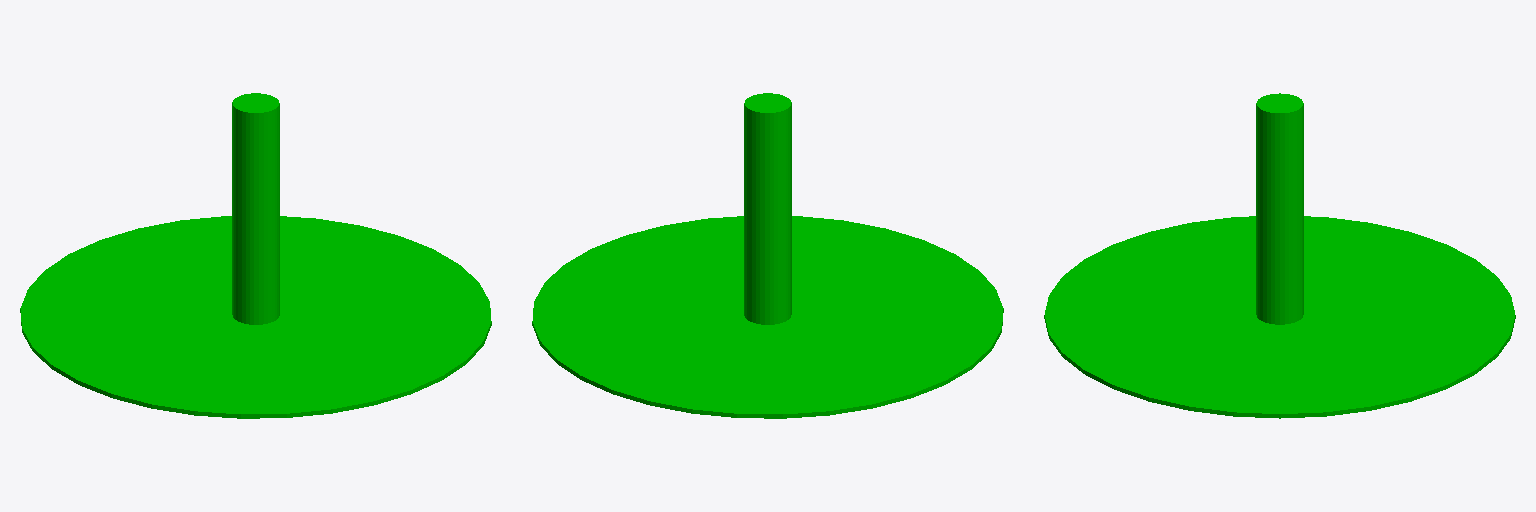
The robot description file, URDF, robot "sr_arm_muscle":
<?xml version="1.0" ?>
<!-- =================================================================================== -->
<!-- |    This document was autogenerated by xacro from xacro/sr_arm_muscle.urdf.xacro | -->
<!-- |    EDITING THIS FILE BY HAND IS NOT RECOMMENDED                                 | -->
<!-- =================================================================================== -->
<robot name="sr_arm_muscle" xmlns:body="http://playerstage.sourceforge.net/gazebo/xmlschema/#body" xmlns:controller="http://playerstage.sourceforge.net/gazebo/xmlschema/#controller" xmlns:geom="http://playerstage.sourceforge.net/gazebo/xmlschema/#geom" xmlns:interface="http://playerstage.sourceforge.net/gazebo/xmlschema/#interface" xmlns:joint="http://playerstage.sourceforge.net/gazebo/xmlschema/#slider" xmlns:sensor="http://playerstage.sourceforge.net/gazebo/xmlschema/#sensor" xmlns:xacro="http://ros.org/wiki/xacro">
  <material name="Blue">
    <color rgba="0.0 0.0 0.8 1.0"/>
  </material>
  <material name="Green">
    <color rgba="0.0 0.8 0.0 1.0"/>
  </material>
  <material name="Grey">
    <color rgba="0.2 0.2 0.2 1.0"/>
  </material>
  <material name="LightGrey">
    <color rgba="0.6 0.6 0.6 1.0"/>
  </material>
  <material name="Red">
    <color rgba="0.8 0.0 0.0 1.0"/>
  </material>
  <material name="White">
    <color rgba="1.0 1.0 1.0 1.0"/>
  </material>
  <gazebo>
    <controller:gazebo_ros_controller_manager name="gazebo_ros_controller_manager" plugin="libgazebo_ros_controller_manager.so">
      <alwaysOn>true</alwaysOn>
      <updateRate>1000.0</updateRate>
    </controller:gazebo_ros_controller_manager>
  </gazebo>
  <link name="desk_pillar">
    <inertial>
      <origin xyz="0 0 0.5"/>
      <mass value="100.0"/>
      <inertia ixx="1.0" ixy="0.0" ixz="0.0" iyy="0.0" iyz="0.0" izz="0.0"/>
    </inertial>
    <visual>
      <origin rpy="0 0 0" xyz="0 0 0.5"/>
      <geometry name="desk_visual">
        <cylinder length="1.0" radius="0.1"/>
      </geometry>
      <material name="Green"/>
    </visual>
    <collision>
      <origin rpy="0 0 0" xyz="0 0 0.5"/>
      <geometry name="desk_collision">
        <cylinder length="1.0" radius="0.1"/>
      </geometry>
    </collision>
  </link>
  <gazebo reference="desk_pillar">
    <material>Gazebo/Green</material>
    <mu1>1000.0</mu1>
    <mu2>1000.0</mu2>
    <kp>10000000.0</kp>
    <kd>1.0</kd>
    <selfCollide>true</selfCollide>
  </gazebo>
  <link name="desk_support">
    <inertial>
      <origin xyz="0 0 0.01"/>
      <mass value="1000.0"/>
      <inertia ixx="1.0" ixy="0.0" ixz="0.0" iyy="0.0" iyz="0.0" izz="0.0"/>
    </inertial>
    <visual>
      <origin rpy="0 0 0" xyz="0 0 0.01"/>
      <geometry name="desk_s_visual">
        <cylinder length="0.02" radius="1.0"/>
      </geometry>
      <material name="Green"/>
    </visual>
    <collision>
      <origin rpy="0 0 0" xyz="0 0 0.01"/>
      <geometry name="desk_s_collision">
        <cylinder length="0.02" radius="1.0"/>
      </geometry>
    </collision>
  </link>
  <gazebo reference="desk_support">
    <material>Gazebo/Green</material>
    <mu1>1000.0</mu1>
    <mu2>1000.0</mu2>
    <kp>10000000.0</kp>
    <kd>1.0</kd>
    <selfCollide>true</selfCollide>
  </gazebo>
  <gazebo>
    <canonicalBody>desk_support</canonicalBody>
  </gazebo>
  <joint name="desk_joint" type="fixed">
    <parent link="desk_support"/>
    <child link="desk_pillar"/>
    <origin rpy="0 0 0" xyz="0 0 0.01"/>
  </joint>
  <joint name="arm_to_desk_fixed" type="fixed">
    <parent link="desk_pillar"/>
    <child link="shadowarm_base"/>
    <origin rpy="0 0 0" xyz="0 0 1.0"/>
  </joint>
  <joint name="base_fix" type="fixed">
    <parent link="world"/>
    <child link="desk_support"/>
    <origin rpy="0 0 0" xyz="0 0 0"/>
  </joint>
  <link name="world"/>
  <link name="shadowarm_base">
    <inertial>
      <origin rpy="0 0 0" xyz="0 0 0"/>
      <mass value="0.4"/>
      <inertia ixx="1.0" ixy="0.0" ixz="0.0" iyy="0.0" iyz="0.0" izz="0.0"/>
    </inertial>
    <visual>
      <origin rpy="1.57079632679 0 0" xyz="0 0 0.005"/>
      <geometry name="shadowarm_base_visual">
        <mesh filename="package://sr_hand/model/meshes/arm/arm_base.mesh" scale="0.001 0.001 0.001"/>
      </geometry>
      <material name="LightGrey"/>
    </visual>
    <collision>
      <origin rpy="0 0 0" xyz="0 0 0.005"/>
      <geometry name="shadowarm_base_collision">
        <box size="0.03 0.03 0.01"/>
      </geometry>
    </collision>
  </link>
  <gazebo reference="shadowarm_base">
    <material>Gazebo/Grey</material>
    <selfCollide>true</selfCollide>
  </gazebo>
  <link name="shadowarm_trunk">
    <inertial>
      <origin rpy="0 0 0" xyz="0 0 0.27025"/>
      <mass value="5"/>
      <inertia ixx="1.0" ixy="0.0" ixz="0.0" iyy="0.0" iyz="0.0" izz="0.0"/>
    </inertial>
    <visual>
      <origin rpy="1.57079632679 3.14159265359 1.57079632679" xyz="0 0 0.0165"/>
      <geometry name="shadowarm_trunk_visual">
        <mesh filename="package://sr_hand/model/meshes/arm/arm_trunk.mesh" scale="0.001 0.001 0.001"/>
      </geometry>
      <material name="Grey"/>
    </visual>
    <collision>
      <origin rpy="0 0 0" xyz="0 0 0.27025"/>
      <geometry name="shadowarm_trunk_collision">
        <box size="0.03 0.03 0.5405"/>
      </geometry>
    </collision>
  </link>
  <gazebo reference="shadowarm_trunk">
    <material>Gazebo/Grey</material>
    <selfCollide>true</selfCollide>
  </gazebo>
  <joint name="ShoulderJRotate" type="revolute">
    <parent link="shadowarm_base"/>
    <child link="shadowarm_trunk"/>
    <origin rpy="0 0 0" xyz="0 0 0.01"/>
    <axis xyz="0 0 1"/>
    <limit effort="10" lower="-0.785398163397" upper="1.57079632679" velocity="1.0"/>
    <dynamics damping="200.5"/>
  </joint>
  <transmission name="trunk_rotation_transmission" type="pr2_mechanism_model/SimpleTransmission">
    <actuator name="trunk_rotation"/>
    <joint name="ShoulderJRotate"/>
    <mechanicalReduction>1</mechanicalReduction>
    <motorTorqueConstant>1</motorTorqueConstant>
    <pulsesPerRevolution>90000</pulsesPerRevolution>
  </transmission>
  <link name="shadowarm_upperarm">
    <inertial>
      <origin rpy="0 0 0" xyz="0 -0.067 -0.1845"/>
      <mass value="2"/>
      <inertia ixx="1.0" ixy="0.0" ixz="0.0" iyy="0.0" iyz="0.0" izz="0.0"/>
    </inertial>
    <visual>
      <origin rpy="0 0 -1.57079632679" xyz="0 0.067 0"/>
      <geometry name="shadowarm_upperarm_visual">
        <mesh filename="package://sr_hand/model/meshes/arm/upper_arm.mesh" scale="0.001 0.001 0.001"/>
      </geometry>
      <material name="Grey"/>
    </visual>
    <collision>
      <origin rpy="0 -3.14159265359 0" xyz="0 0 0.1845"/>
      <geometry name="shadowarm_upperarm_collision">
        <box size="0.03 0.03 0.369"/>
      </geometry>
    </collision>
  </link>
  <gazebo reference="shadowarm_upperarm">
    <material>Gazebo/Grey</material>
    <selfCollide>true</selfCollide>
  </gazebo>
  <joint name="ShoulderJSwing" type="revolute">
    <parent link="shadowarm_trunk"/>
    <child link="shadowarm_upperarm"/>
    <origin rpy="0 -3.14159265359 0" xyz="0 -0.134 0.5405"/>
    <axis xyz="0 -1 0"/>
    <limit effort="10" lower="0" upper="1.57079632679" velocity="1.0"/>
    <dynamics damping="50.5"/>
  </joint>
  <transmission name="shoulder_rotation_transmission" type="pr2_mechanism_model/SimpleTransmission">
    <actuator name="shoulder_rotation"/>
    <joint name="ShoulderJSwing"/>
    <mechanicalReduction>1</mechanicalReduction>
    <motorTorqueConstant>1</motorTorqueConstant>
    <pulsesPerRevolution>90000</pulsesPerRevolution>
  </transmission>
  <link name="shadowarm_lowerarm">
    <inertial>
      <origin rpy="0 0 0" xyz="0.08 0 0.0655"/>
      <mass value="1.7"/>
      <inertia ixx="1.0" ixy="0.0" ixz="0.0" iyy="0.0" iyz="0.0" izz="0.0"/>
    </inertial>
    <visual>
      <origin rpy="3.14159265359 -1.07079632679 0" xyz="0.03 0 0.036"/>
      <geometry name="shadowarm_lowerarm_visual">
        <mesh filename="package://sr_hand/model/meshes/arm/elbow_flex.mesh" scale="0.001 0.001 0.001"/>
      </geometry>
      <material name="Grey"/>
    </visual>
    <collision>
      <origin rpy="0 0 0" xyz="0.08 0 0.0655"/>
      <geometry name="shadowarm_lowerarm_collision">
        <box size="0.03 0.03 0.131"/>
      </geometry>
    </collision>
  </link>
  <gazebo reference="shadowarm_lowerarm">
    <material>Gazebo/Grey</material>
    <selfCollide>true</selfCollide>
  </gazebo>
  <joint name="ElbowJSwing" type="revolute">
    <parent link="shadowarm_upperarm"/>
    <child link="shadowarm_lowerarm"/>
    <origin rpy="0 0 0" xyz="0 0 0.369"/>
    <axis xyz="0 -1 0"/>
    <limit effort="10" lower="0" upper="2.09439510239" velocity="1.0"/>
    <dynamics damping="50.5"/>
  </joint>
  <transmission name="elbow_abduction_transmission" type="pr2_mechanism_model/SimpleTransmission">
    <actuator name="elbow_abduction"/>
    <joint name="ElbowJSwing"/>
    <mechanicalReduction>1</mechanicalReduction>
    <motorTorqueConstant>1</motorTorqueConstant>
    <pulsesPerRevolution>90000</pulsesPerRevolution>
  </transmission>
  <link name="shadowarm_handsupport_muscle">
    <inertial>
      <origin rpy="0 0 0" xyz="0 0 0"/>
      <mass value="0.75"/>
      <inertia ixx="1.0" ixy="0.0" ixz="0.0" iyy="0.0" iyz="0.0" izz="0.0"/>
    </inertial>
    <visual>
      <origin rpy="1.57079632679 0 0" xyz="0 0 -0.04"/>
      <geometry name="shadowarm_handsupport_visual">
        <mesh filename="package://sr_hand/model/meshes/arm/elbow_rotate_muscle.mesh" scale="0.001 0.001 0.001"/>
      </geometry>
      <material name="LightGrey"/>
    </visual>
    <collision>
      <origin rpy="0 0 0" xyz="0 0 0"/>
      <geometry name="shadowarm_handsupport_collision">
        <cylinder length="0.001" radius="0.06"/>
      </geometry>
    </collision>
  </link>
  <gazebo reference="shadowarm_handsupport_muscle">
    <material>Gazebo/Grey</material>
    <selfCollide>true</selfCollide>
  </gazebo>
  <joint name="ElbowJRotate" type="revolute">
    <parent link="shadowarm_lowerarm"/>
    <child link="shadowarm_handsupport_muscle"/>
    <origin rpy="0 0 0" xyz="0.08 0 0.131"/>
    <axis xyz="0 0 -1"/>
    <limit effort="10" lower="-1.57079632679" upper="1.57079632679" velocity="1.0"/>
    <dynamics damping="10.5"/>
  </joint>
  <transmission name="forearm_rotation_transmission" type="pr2_mechanism_model/SimpleTransmission">
    <actuator name="forearm_rotation"/>
    <joint name="ElbowJRotate"/>
    <mechanicalReduction>1</mechanicalReduction>
    <motorTorqueConstant>1</motorTorqueConstant>
    <pulsesPerRevolution>90000</pulsesPerRevolution>
  </transmission>
</robot>

--- Render facts (derived) ---
Views: 3 orthographic renders of the robot side by side, from view 1: azimuth 30°, elevation 25°; view 2: azimuth 150°, elevation 25°; view 3: azimuth 270°, elevation 25°.
Model sr_arm_muscle with 8 links and 7 joints (4 revolute, 3 fixed), rooted at world, posed every joint at zero.
Visible links, largest first — view 1: desk_support, desk_pillar; view 2: desk_support, desk_pillar; view 3: desk_support, desk_pillar.
Boxes of the visible links, bbox=[...] form: desk_support: bbox=[20, 216, 491, 418]; desk_pillar: bbox=[232, 93, 279, 324]; desk_support: bbox=[532, 216, 1003, 418]; desk_pillar: bbox=[744, 93, 791, 324]; desk_support: bbox=[1044, 216, 1515, 418]; desk_pillar: bbox=[1256, 93, 1303, 324].
Bounding box of the posed robot: 2 × 2 × 1.01 m (x, y, z).
Meshes: 5 distinct files referenced, 0 mesh visuals loaded (none loaded); not drawn: 5 (reference not matched to a file when rendering).